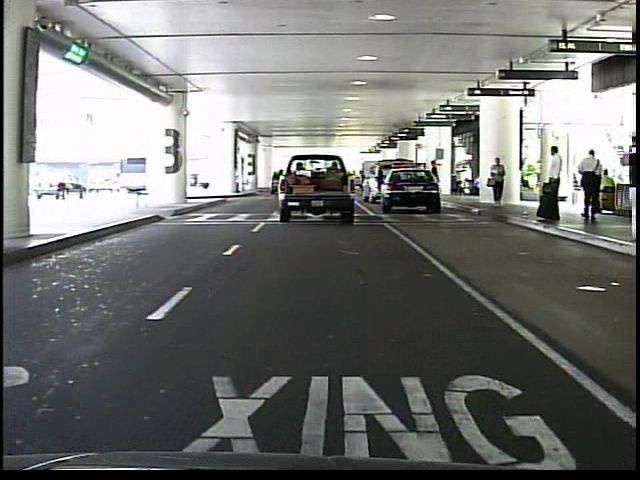person: (575, 145, 608, 226), (537, 143, 567, 226), (487, 153, 511, 212), (430, 158, 443, 201)
